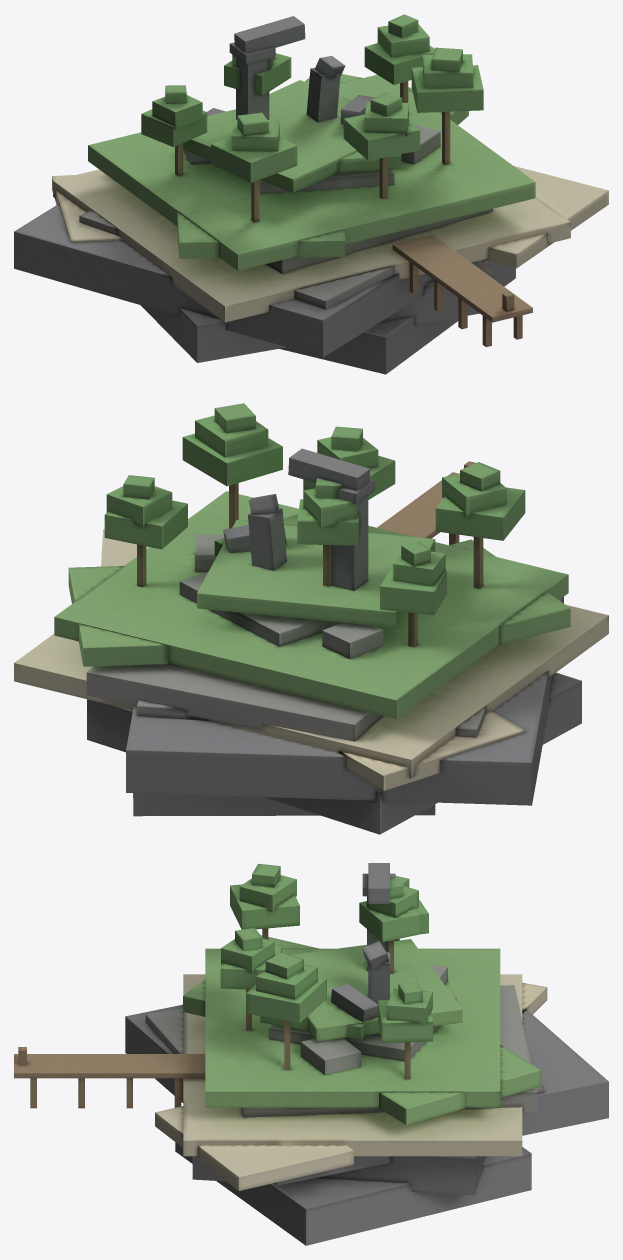
File: startisle.glb
The picture shows the model from 3 angles, top to bottom: view 1: azimuth 30°, elevation 25°; view 2: azimuth 150°, elevation 25°; view 3: azimuth 270°, elevation 25°; orthographic projection. The views are drawn at different scales.
Parts seen in each view (by area): view 1: startisle; view 2: startisle; view 3: startisle.
Part boxes in pixels (<box>): startisle: <box>14,14,608,374</box>; startisle: <box>14,403,608,834</box>; startisle: <box>14,863,608,1245</box>.
Bounding box in the file's own units: 50.39 × 27.33 × 54.43.
Materials: 6 (6 with a texture image).
